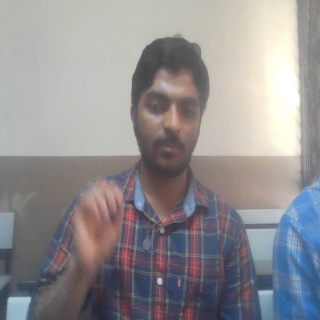Face: (127, 31, 212, 182)
